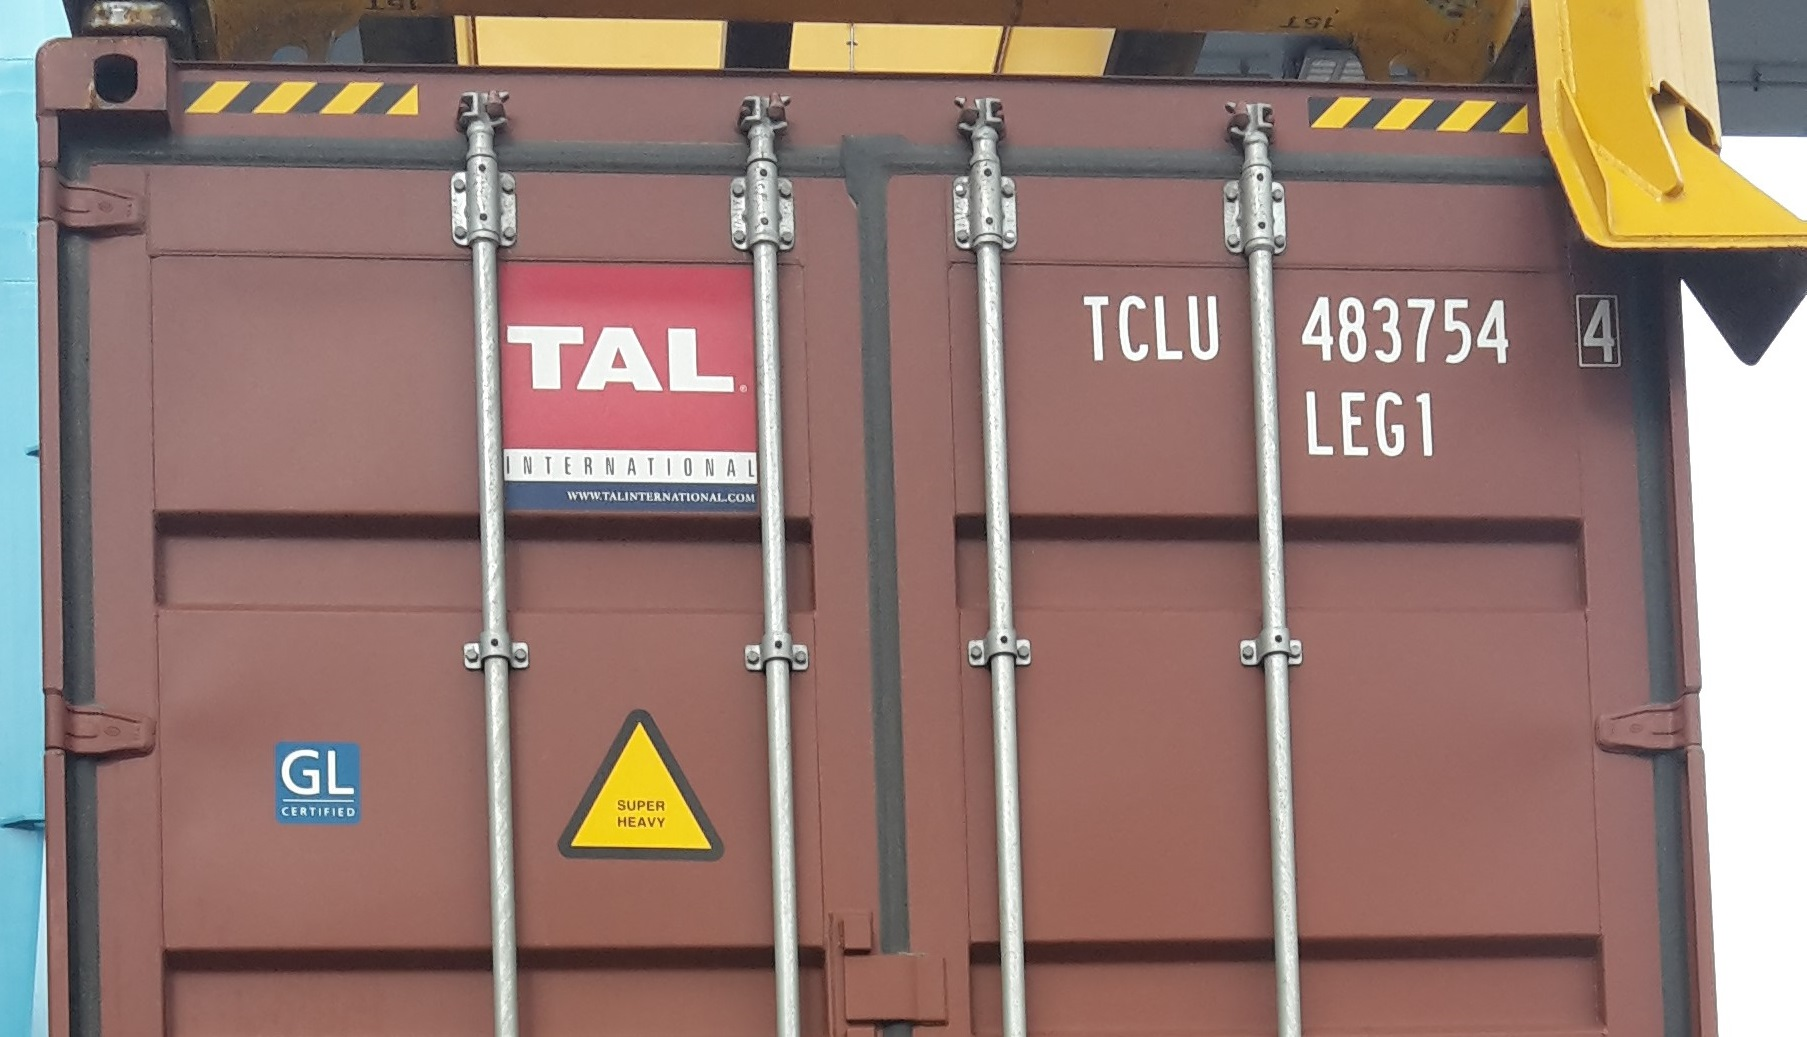container_door: (35, 46, 1728, 1037)
